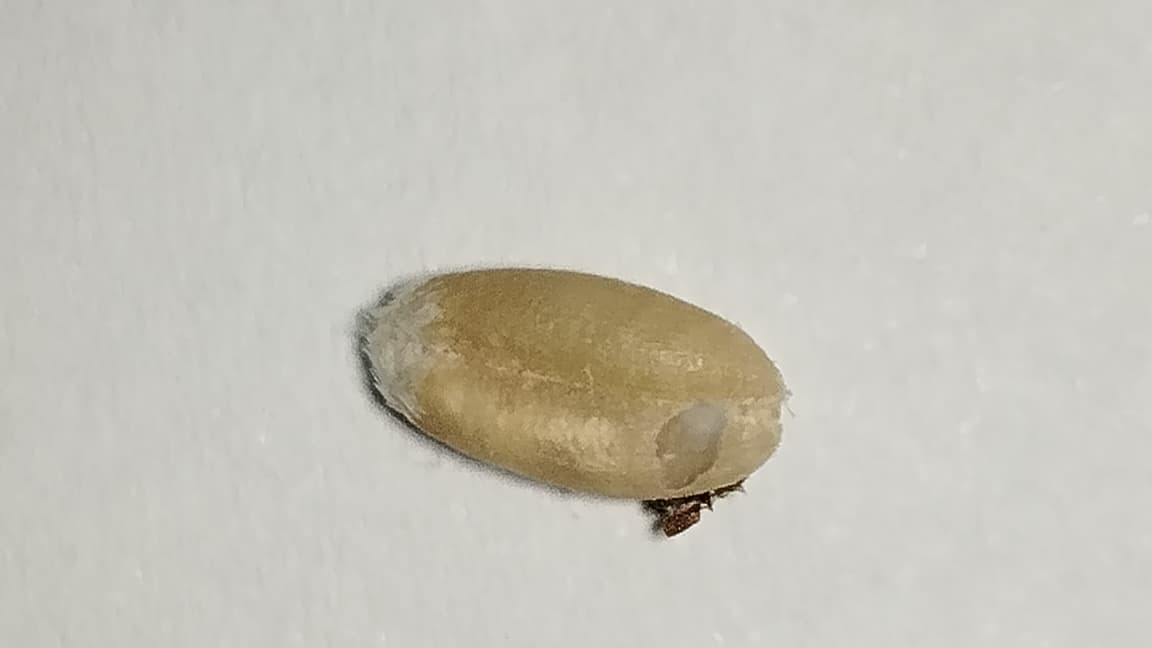damage: (365, 269, 787, 535)
insectdamage: (638, 395, 757, 537)
